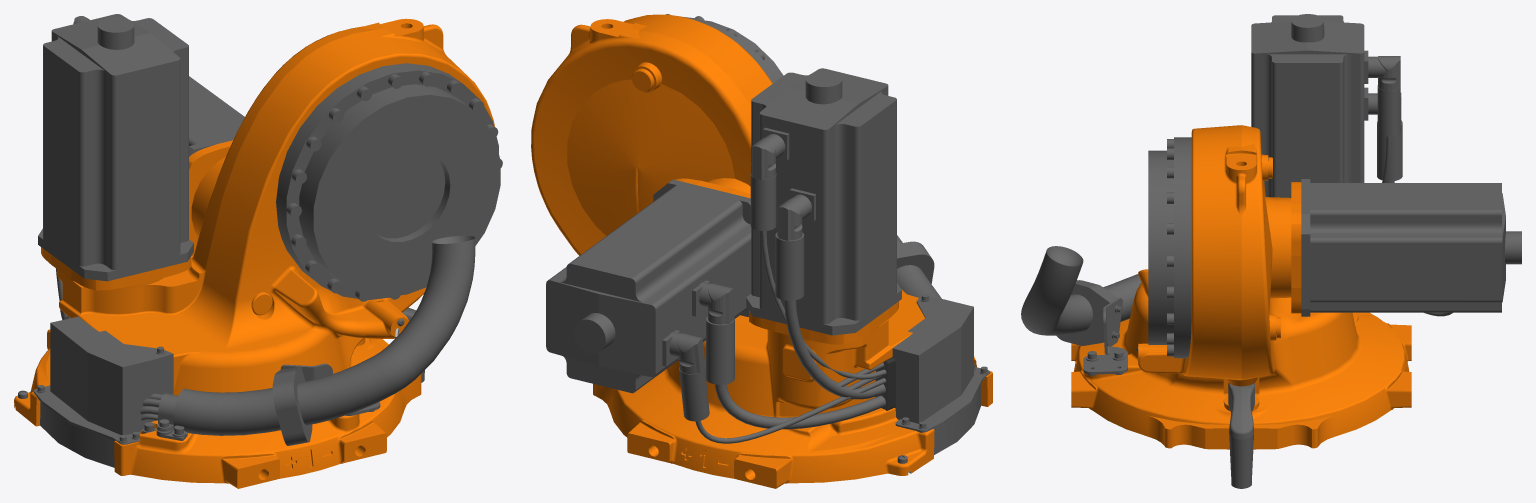
3 views of the same model, side by side, from view 1: azimuth 30°, elevation 25°; view 2: azimuth 150°, elevation 25°; view 3: azimuth 270°, elevation 25° (orthographic). The views are drawn at different scales.
Parts seen in each view (by area): view 1: link_1; view 2: link_1; view 3: link_1.
Part boxes in pixels (bbox=[...]): link_1: bbox=[14, 14, 502, 488]; link_1: bbox=[531, 14, 992, 488]; link_1: bbox=[1021, 14, 1521, 488].
Bounding box in the file's own units: 0.484 × 0.5623 × 0.4337.
